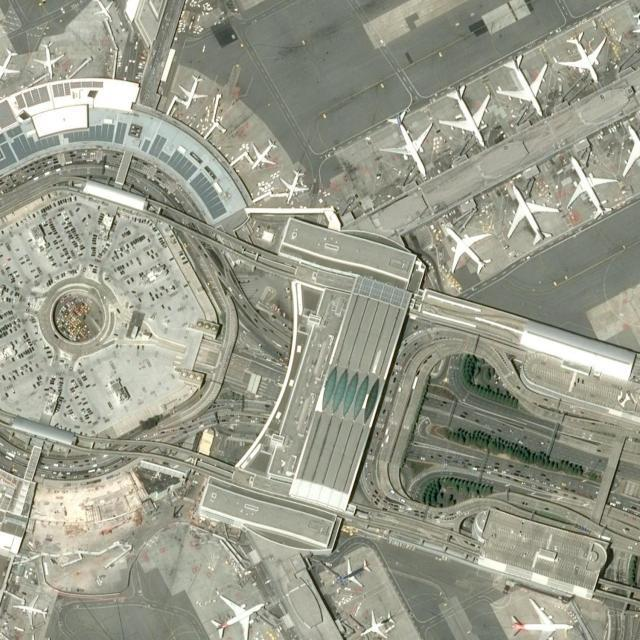Aircraft: (380, 108, 434, 177), (507, 182, 561, 244), (497, 53, 549, 117), (439, 83, 491, 147), (567, 156, 619, 220), (510, 596, 575, 639), (558, 30, 608, 84), (445, 224, 494, 276), (212, 594, 266, 639), (14, 595, 50, 629), (33, 41, 65, 79), (179, 73, 209, 111), (337, 558, 372, 588), (279, 170, 309, 205), (622, 122, 640, 178), (362, 611, 398, 639), (251, 139, 279, 171), (0, 46, 21, 85), (91, 1, 115, 23)
